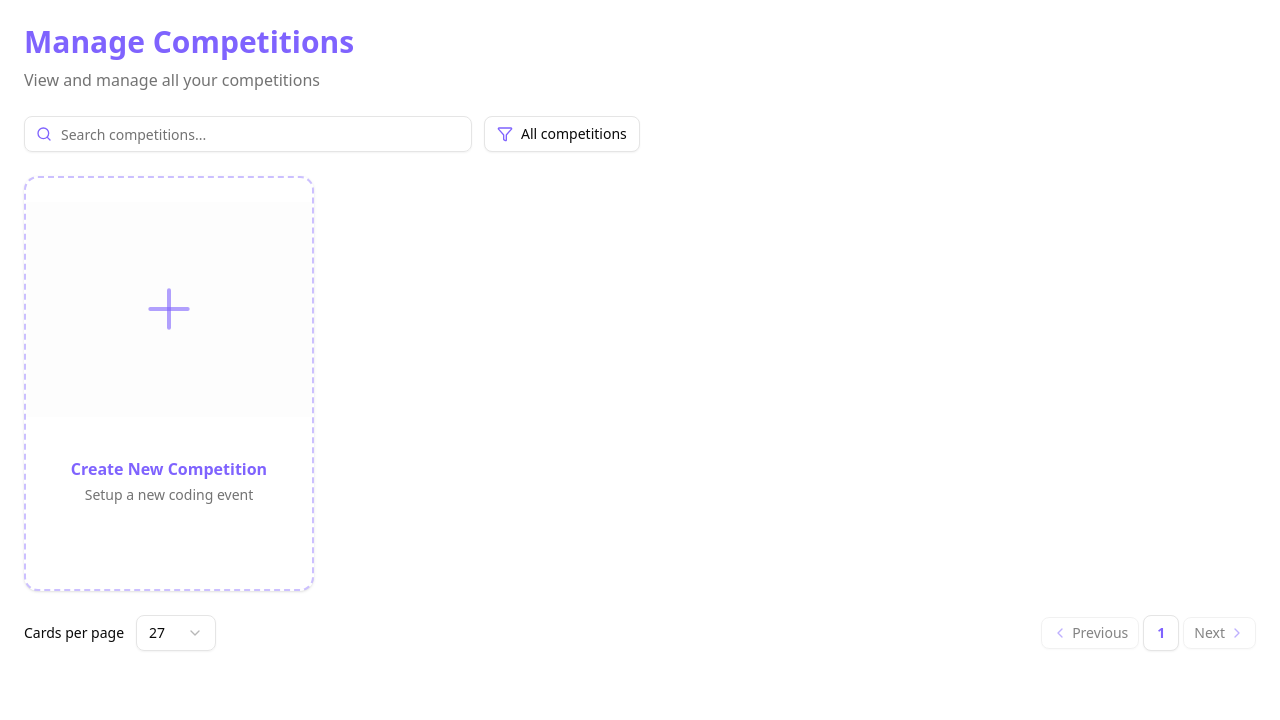
Scenario: ManageCompetitions › shows empty search state when no results are returned
Type "Nonexistent" into the field with placeholder "Search competitions..." at (248, 134), box x1=24 y1=116 x2=472 y2=152
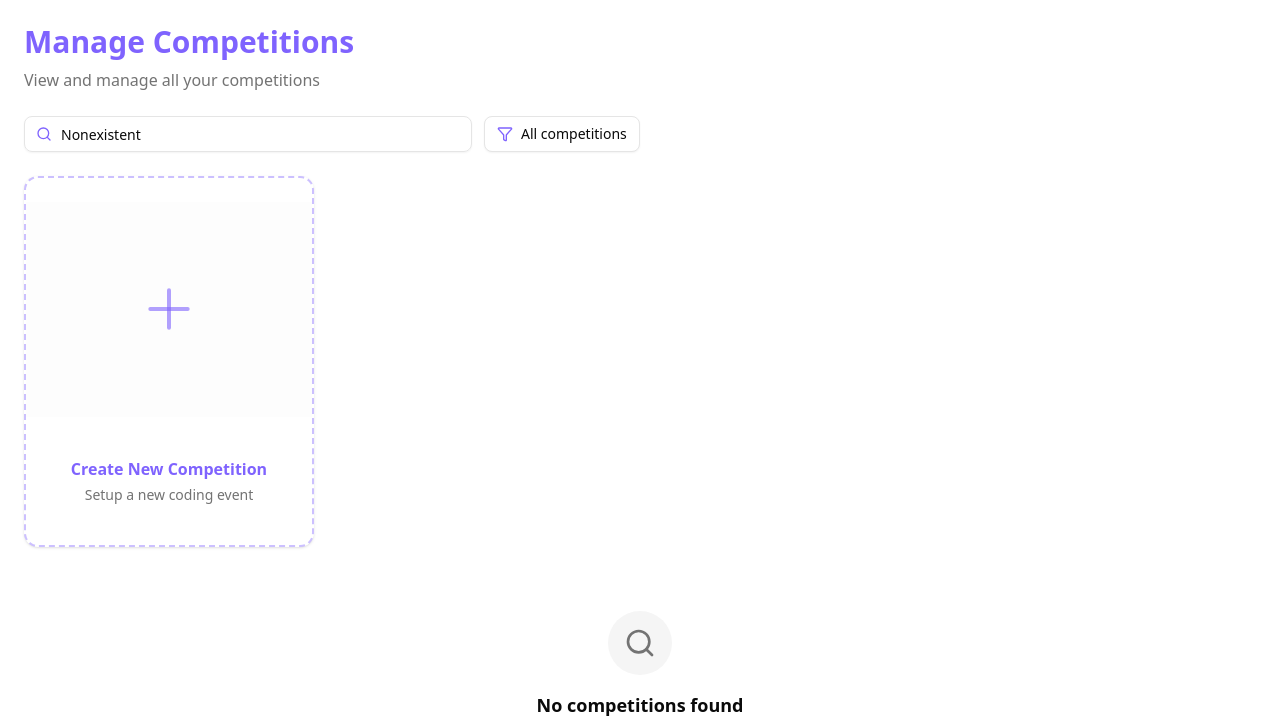
Result: the heading "No competitions found" is shown at x1=536 y1=692 x2=743 y2=716
